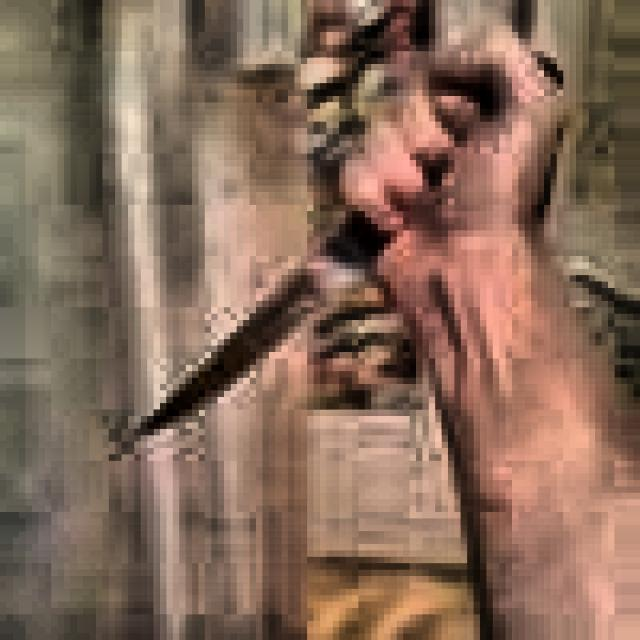knife: (137, 51, 566, 445)
